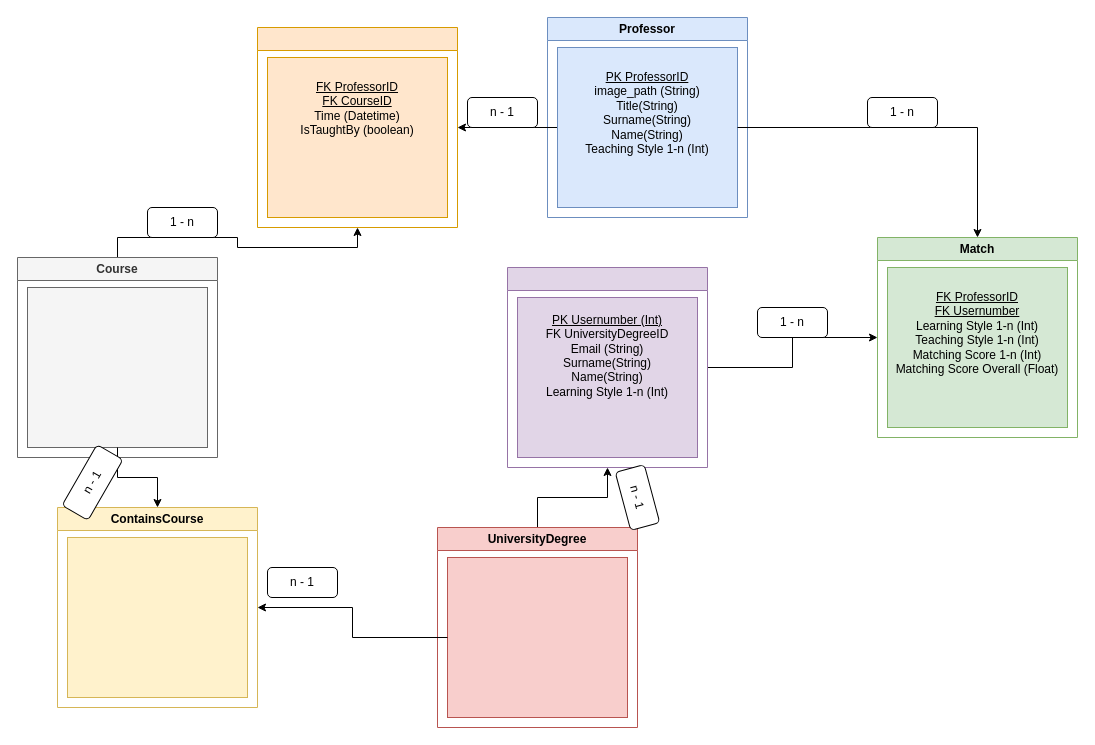
Image size: 1095x745. Some labels were removed from this diagram. The shapes that lost their labels are listed below. From the top down, each one's box as (x1, y1, x2, y2) in pixels, then its label:
(256, 26, 458, 228): Class
(26, 286, 208, 448): PK CourseID (Int) Description (String) Difficulty (Int)
(506, 266, 708, 468): StudentUser
(66, 536, 248, 698): FK UniverstyDegreeID FK CourseID IsRequired (boolean)
(446, 556, 628, 718): PK UniversityDegreeID
